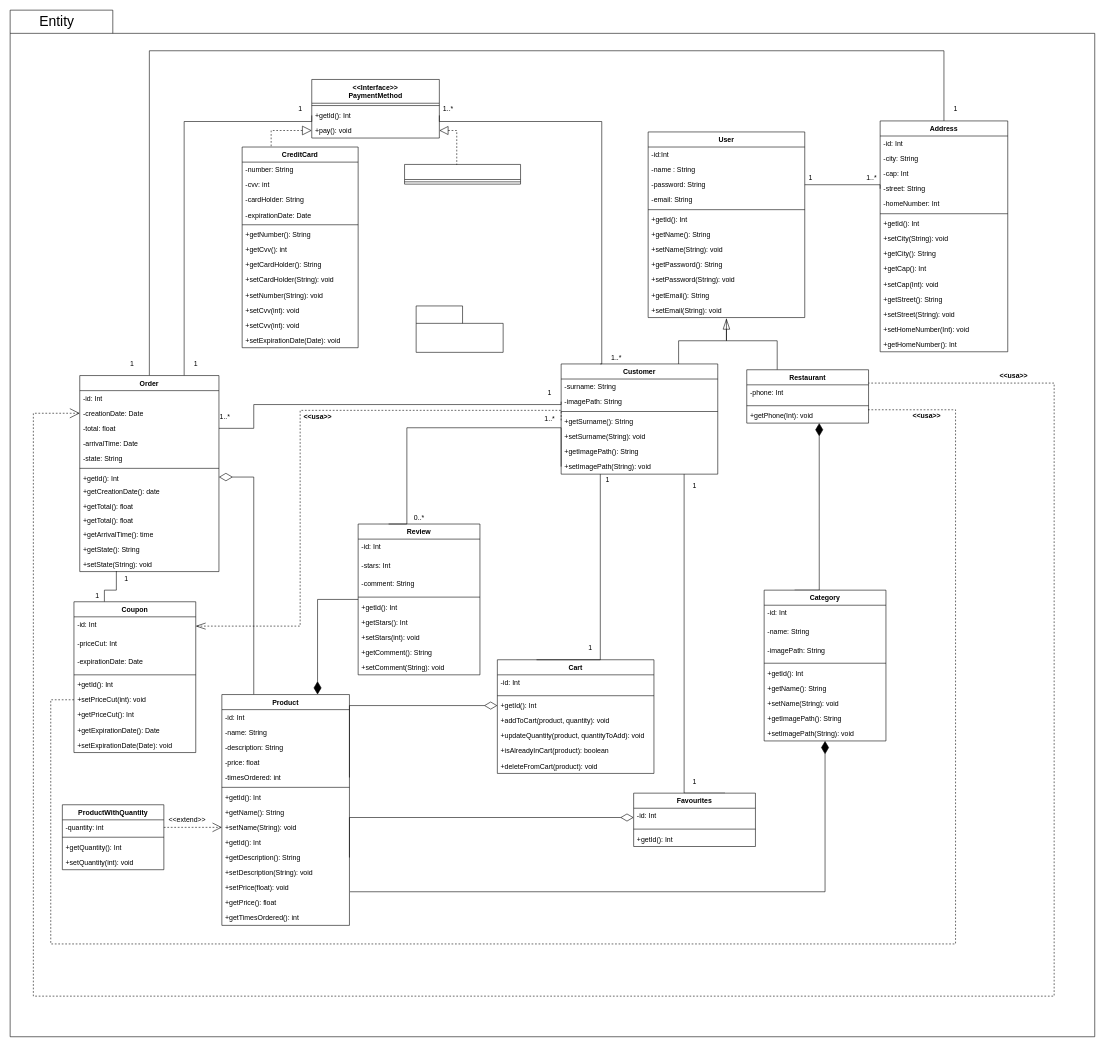
The diagram is 1105 pixels wide and 1047 high, and some of its shapes have lost their labels. The shapes that lost their labels are listed below. From the top down, each one's centre as x and y in pixels, then its label:
point 462,174: Cash
point 459,328: Package1
